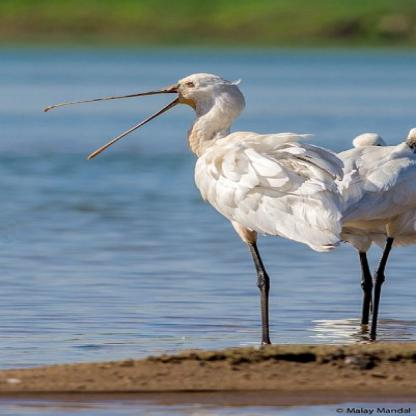Burung: (44, 71, 340, 343), (342, 132, 415, 340)
